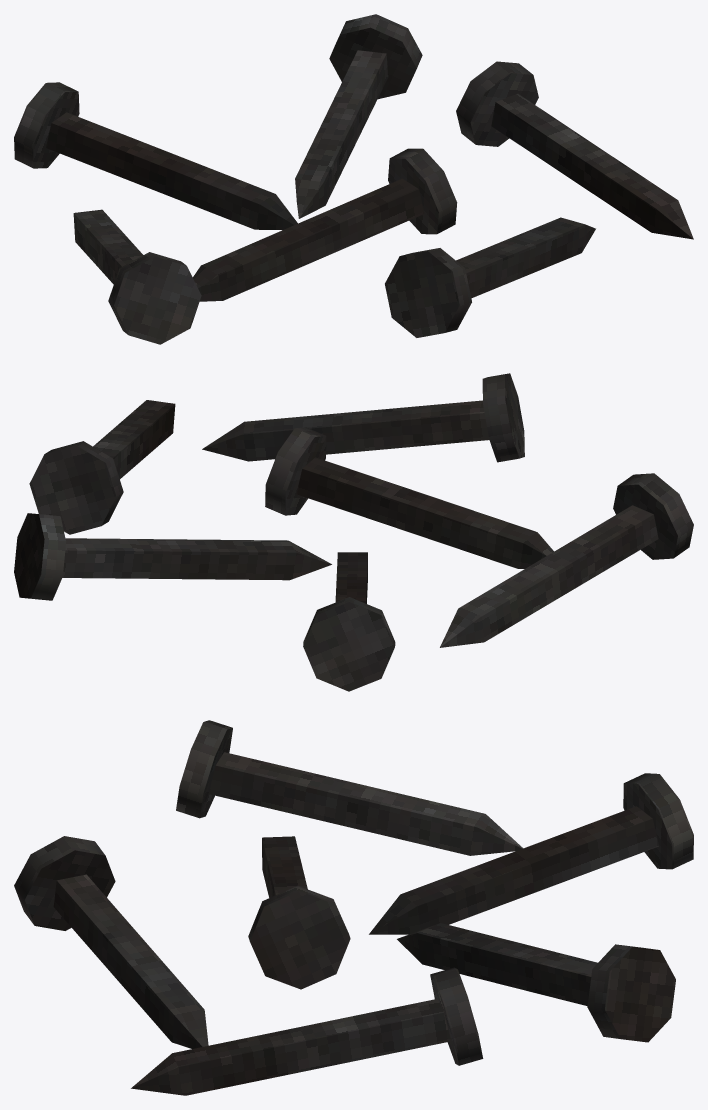
File: nails_1.glb
3 renders of one model, top to bottom at view 1: azimuth 30°, elevation 25°; view 2: azimuth 150°, elevation 25°; view 3: azimuth 270°, elevation 25°, orthographic. The views are drawn at different scales.
Parts seen in each view (by area): view 1: nails_1; view 2: nails_1; view 3: nails_1.
Part boxes in pixels (left/top/right/bottom): nails_1: left=14, top=14, right=693, bottom=344; nails_1: left=14, top=373, right=693, bottom=691; nails_1: left=14, top=720, right=693, bottom=1095.
Bounding box in the file's own units: 0.1405 × 0.0211 × 0.1348.
1 material, 1 textured.
